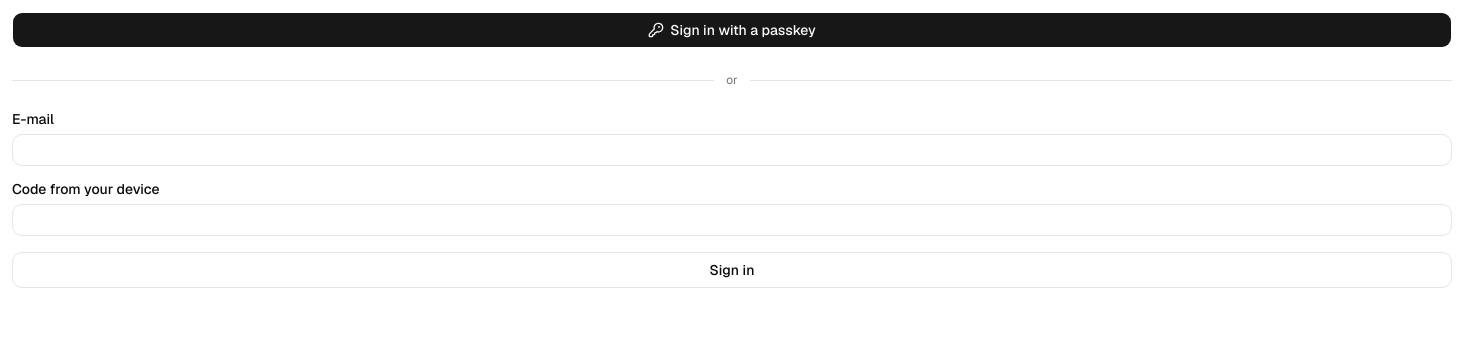
it: SignInForm › checks the fields before sending anything
The image size is (1464, 361).
Step 1. Type "not-an-address" into the field labelled "E-mail" → (732, 150), box [12,134,1452,166]
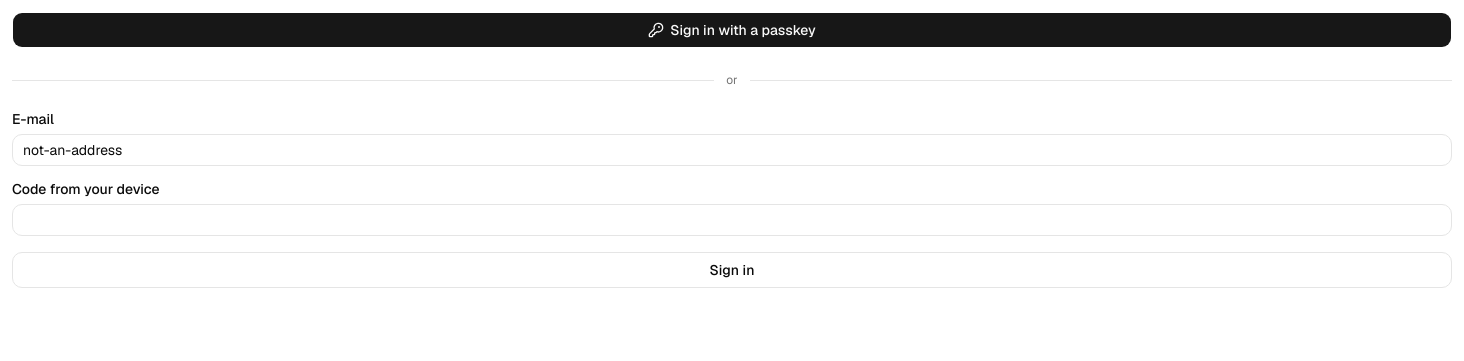
Step 2. Type "12" into the field labelled "Code from your device" → (732, 220), box [12,204,1452,236]
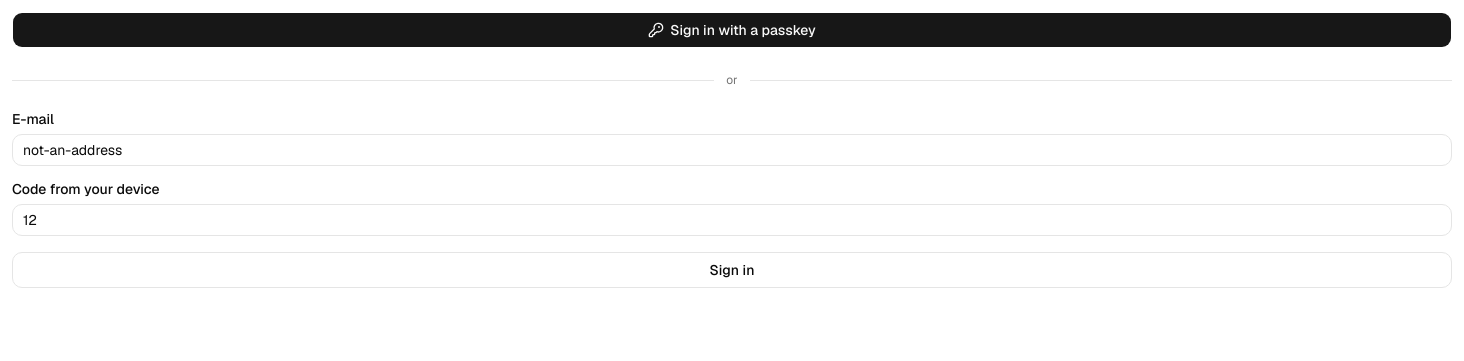
Step 3. Click the button "Sign in" → (732, 270), box [12,252,1452,288]
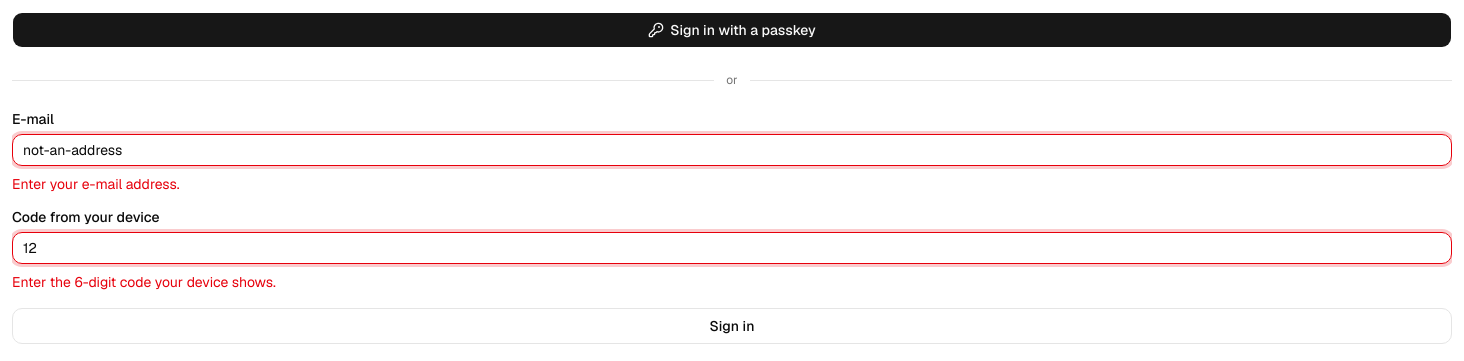
Check: the text "Enter your e-mail address." is shown, box [12,175,180,193]
Check: the text "Enter the 6-digit code your device shows." is shown, box [12,273,276,291]
